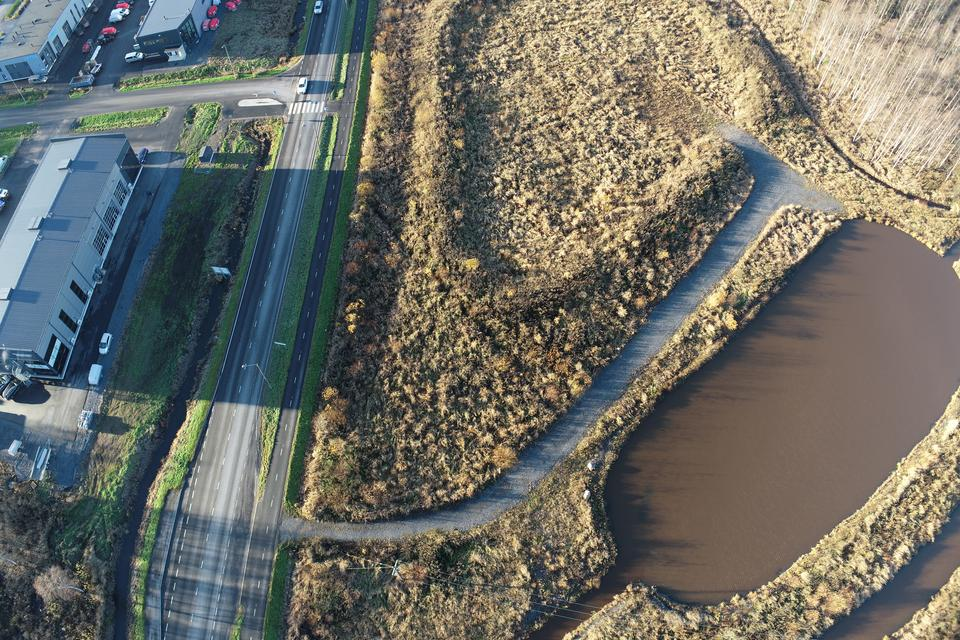intersection: (128, 477, 331, 564), (211, 55, 392, 126)
